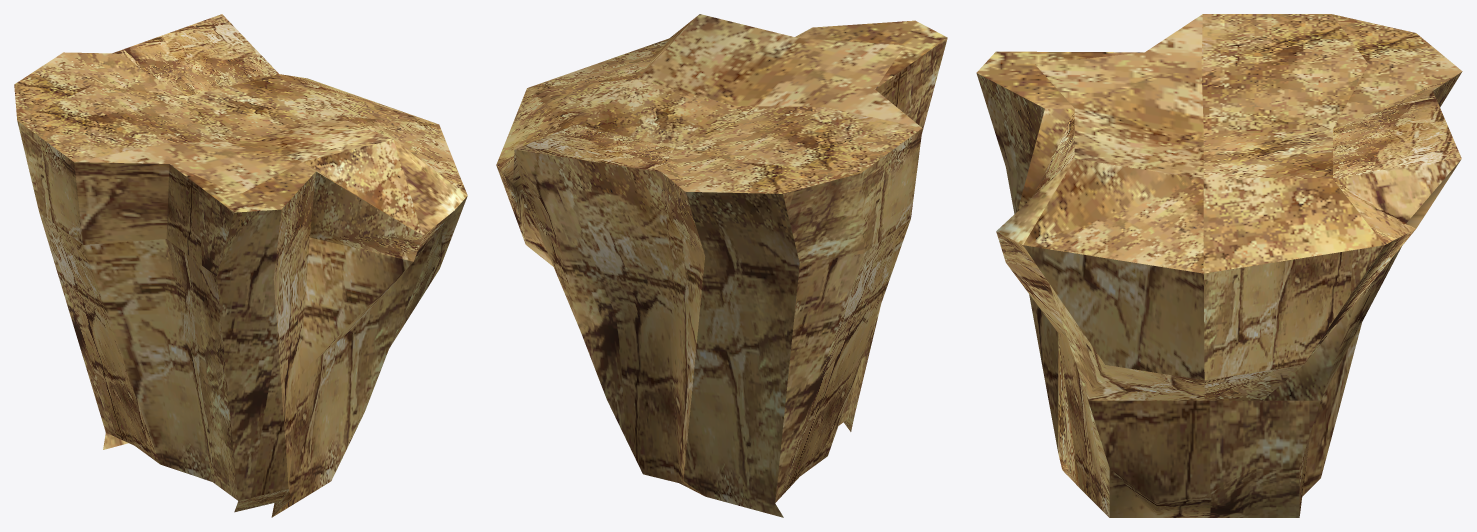
File: geo_desert_03.dae
3 renders of one model, left to right at view 1: azimuth 30°, elevation 25°; view 2: azimuth 150°, elevation 25°; view 3: azimuth 270°, elevation 25°, orthographic. The views are drawn at different scales.
Visible parts, largest first — view 1: geo_desert_03; view 2: geo_desert_03; view 3: geo_desert_03.
Part boxes in pixels (bbox=[...]): geo_desert_03: bbox=[14, 14, 467, 517]; geo_desert_03: bbox=[496, 14, 947, 517]; geo_desert_03: bbox=[976, 14, 1462, 517].
Size of the model in its own units: 9.82 by 10.03 by 9.
